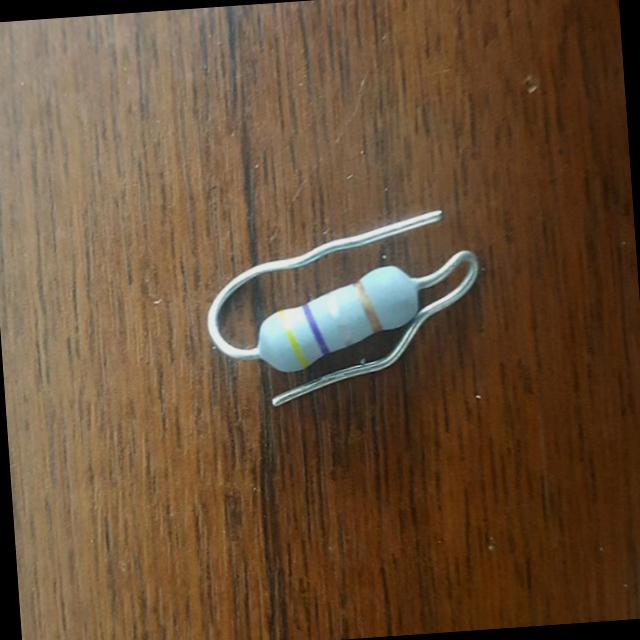Resistor: (242, 261, 434, 384)
